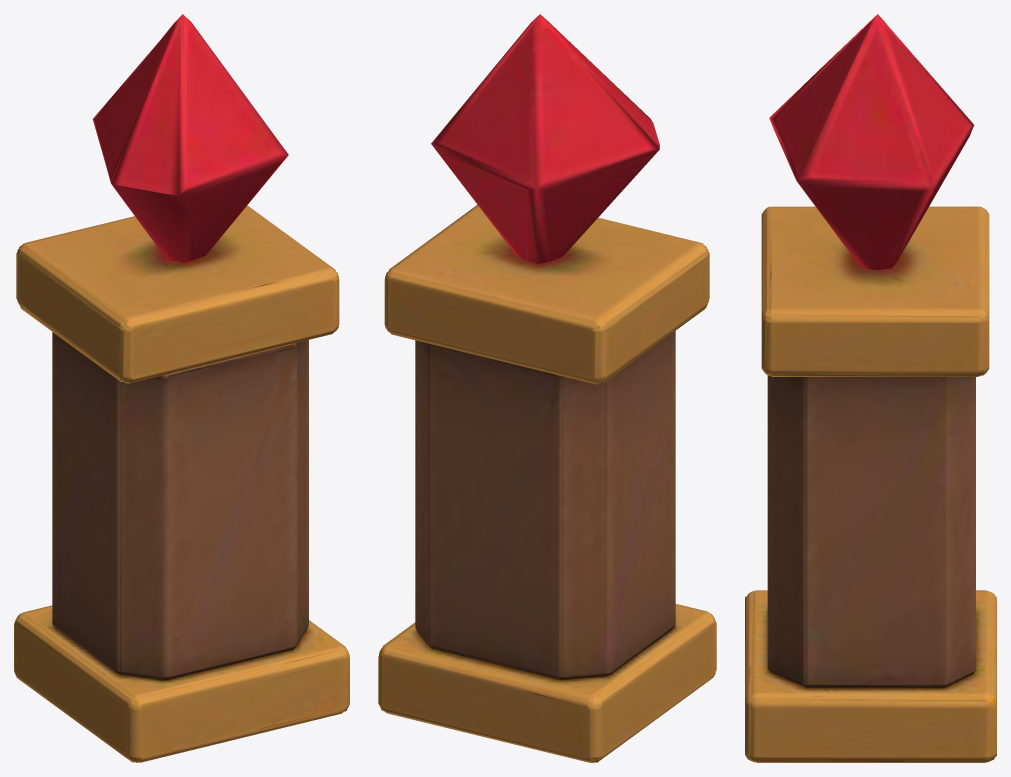
File: pylon_red.glb
3 views of the same model, side by side, from view 1: azimuth 30°, elevation 25°; view 2: azimuth 150°, elevation 25°; view 3: azimuth 270°, elevation 25° (orthographic). The views are drawn at different scales.
Visible parts, largest first — view 1: tripo_node_adb349fe-faf0-4509-a93f-d07f88b004d8; view 2: tripo_node_adb349fe-faf0-4509-a93f-d07f88b004d8; view 3: tripo_node_adb349fe-faf0-4509-a93f-d07f88b004d8.
Boxes of the visible parts, left/top/right/bottom form: tripo_node_adb349fe-faf0-4509-a93f-d07f88b004d8: left=14, top=14, right=349, bottom=762; tripo_node_adb349fe-faf0-4509-a93f-d07f88b004d8: left=378, top=14, right=716, bottom=762; tripo_node_adb349fe-faf0-4509-a93f-d07f88b004d8: left=745, top=14, right=996, bottom=762.
Size of the model in its own units: 0.3418 by 0.998 by 0.3262.
1 material, 1 textured.
